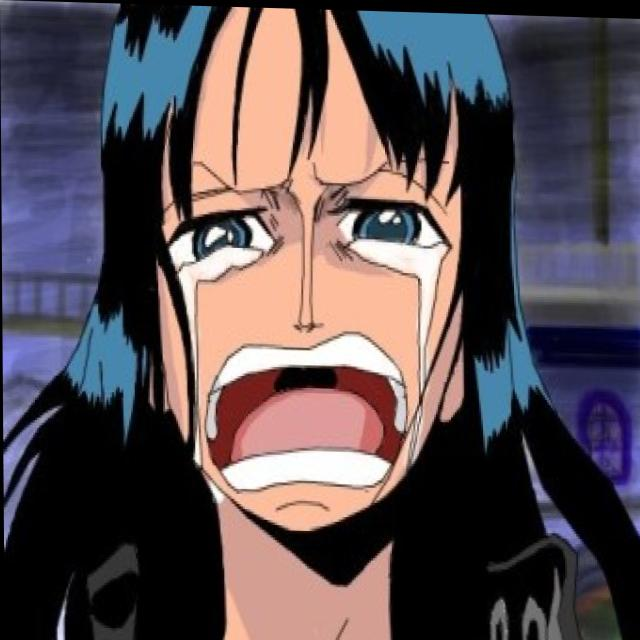NicoRobin: (83, 2, 566, 555)
